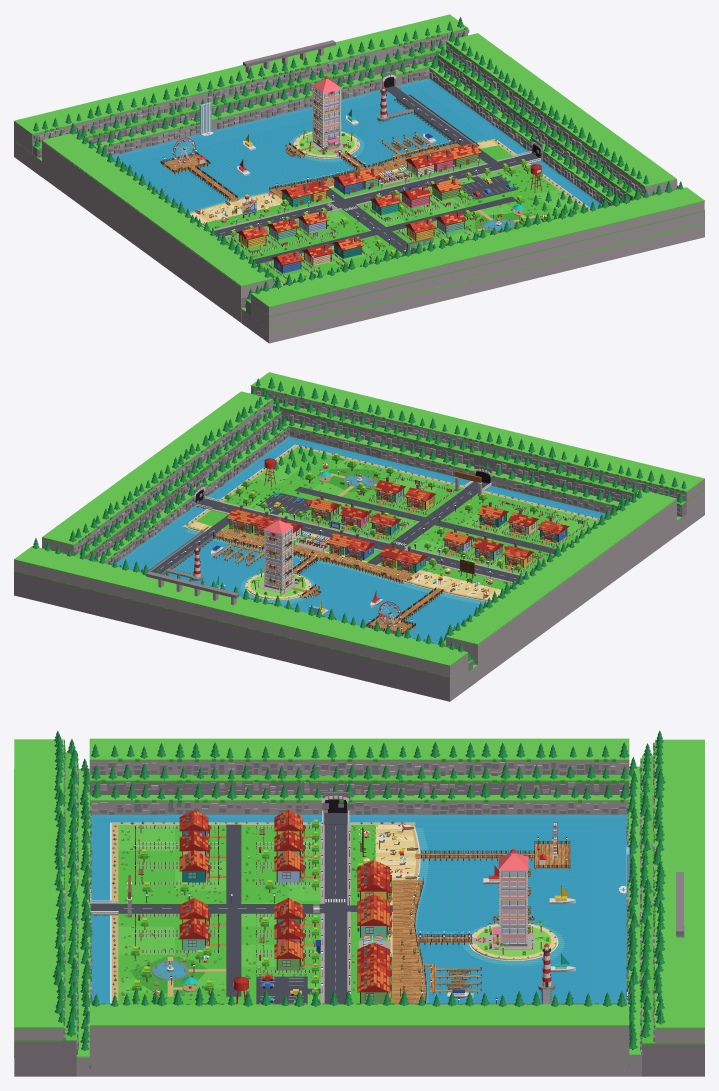
File: FishermanMistressHarbor.fbx
The picture shows the model from 3 angles, top to bottom: view 1: azimuth 30°, elevation 25°; view 2: azimuth 150°, elevation 25°; view 3: azimuth 270°, elevation 25°; orthographic projection. The views are drawn at different scales.
Parts seen in each view (by area): view 1: Terrain_StoneDark_2_2_00, Backdrop_Cliff_1_-1_00, Backdrop_Grass2_2_-1_00, Backdrop_Grass2_1_4_00, Backdrop_Cliff_-1_2_00, Backdrop_Grass2_4_2_00, Backdrop_Cliff_2_-1_00, Backdrop_Grass2_-1_2_00, Backdrop_Cliff_1_4_00, Water_Water_1_3_00, Water_Water_0_3_00, Water_Water_2_4_00 (+37 smaller); view 2: Backdrop_CliffDark_2_4_00, Terrain_StoneDark_2_2_00, Backdrop_Grass2_1_4_00, Backdrop_Cliff_-1_2_00, Backdrop_Grass2_2_-1_00, Backdrop_Grass2_4_2_00, Backdrop_Grass2_-1_2_00, Backdrop_Cliff_1_4_00, Water_Water_1_3_00, Backdrop_Cliff_2_-1_00, Water_Water_0_3_00, Backdrop_Cliff_1_-1_00 (+47 smaller); view 3: Backdrop_Cliff_4_2_00, Terrain_StoneDark_2_2_00, Backdrop_Grass2_1_4_00, Backdrop_Grass2_-1_2_00, Backdrop_Grass2_2_-1_00, Backdrop_Grass2_4_2_00, Backdrop_Cliff_-1_2_00, Water_Water_1_3_00, Water_Water_0_3_00, Water_Water_2_4_00, Water_Water_2_3_00, Water_Water_-1_2_00 (+87 smaller).
Boxes of the visible parts, x1,y1,x2,y2 form: Terrain_StoneDark_2_2_00: [114, 81, 598, 211]; Backdrop_Cliff_1_-1_00: [251, 201, 704, 328]; Backdrop_Grass2_2_-1_00: [251, 187, 704, 307]; Backdrop_Grass2_1_4_00: [14, 14, 468, 161]; Backdrop_Cliff_-1_2_00: [42, 141, 272, 322]; Backdrop_Grass2_4_2_00: [429, 33, 676, 202]; Backdrop_Cliff_2_-1_00: [241, 223, 704, 343]; Backdrop_Grass2_-1_2_00: [42, 133, 272, 287]; Backdrop_Cliff_1_4_00: [14, 29, 467, 176]; Water_Water_1_3_00: [198, 129, 336, 193]; Water_Water_0_3_00: [127, 148, 260, 212]; Water_Water_2_4_00: [112, 83, 424, 165]; Backdrop_CliffDark_2_4_00: [14, 571, 472, 701]; Terrain_StoneDark_2_2_00: [118, 439, 604, 643]; Backdrop_Grass2_1_4_00: [14, 546, 477, 685]; Backdrop_Cliff_-1_2_00: [446, 499, 676, 680]; Backdrop_Grass2_2_-1_00: [250, 372, 704, 492]; Backdrop_Grass2_4_2_00: [42, 391, 289, 561]; Backdrop_Grass2_-1_2_00: [446, 491, 676, 644]; Backdrop_Cliff_1_4_00: [14, 560, 477, 701]; Water_Water_1_3_00: [283, 564, 412, 625]; Backdrop_Cliff_2_-1_00: [289, 427, 704, 535]; Water_Water_0_3_00: [359, 585, 487, 643]; Backdrop_Cliff_1_-1_00: [251, 386, 704, 513]; Backdrop_Cliff_4_2_00: [89, 1006, 629, 1076]; Terrain_StoneDark_2_2_00: [91, 818, 626, 1003]; Backdrop_Grass2_1_4_00: [628, 739, 704, 1055]; Backdrop_Grass2_-1_2_00: [89, 738, 629, 801]; Backdrop_Grass2_2_-1_00: [14, 739, 63, 1028]; Backdrop_Grass2_4_2_00: [90, 1004, 629, 1026]; Backdrop_Cliff_-1_2_00: [90, 760, 629, 817]; Water_Water_1_3_00: [415, 876, 591, 926]; Water_Water_0_3_00: [415, 826, 591, 876]; Water_Water_2_4_00: [591, 826, 627, 1004]; Water_Water_2_3_00: [415, 926, 591, 976]; Water_Water_-1_2_00: [91, 814, 627, 826].
Bounding box in the file's own units: 723 × 117 × 731.
